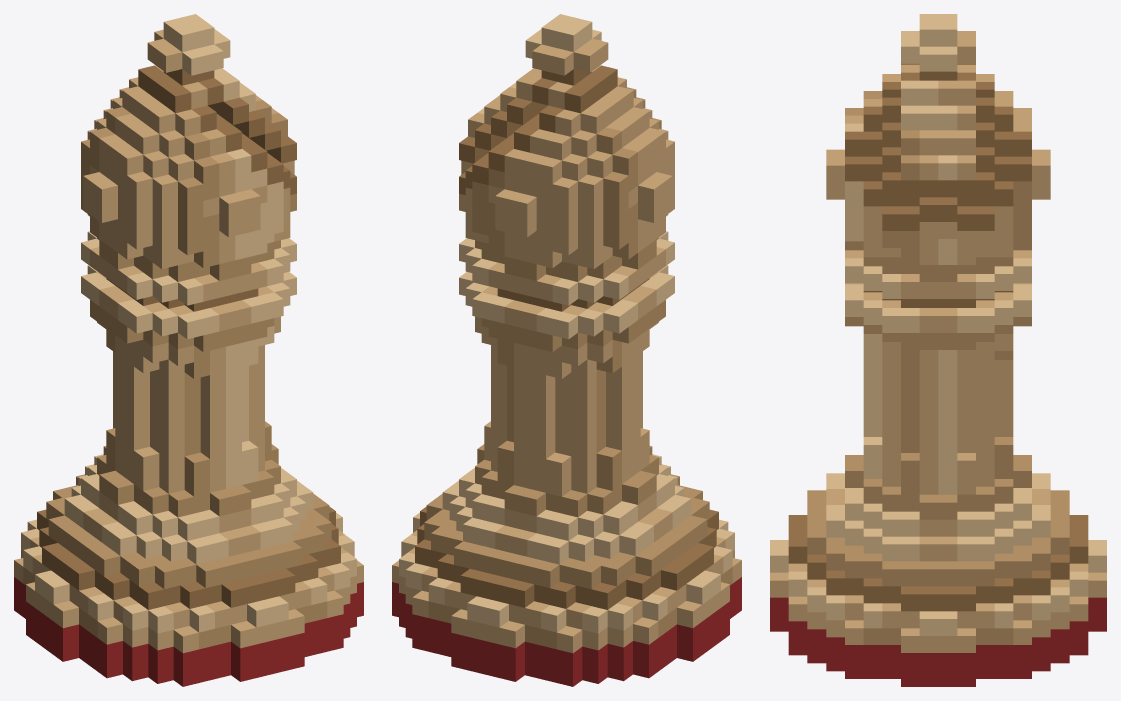
Rendered from bishop.obj.
The picture shows the model from 3 angles, left to right: view 1: azimuth 30°, elevation 25°; view 2: azimuth 150°, elevation 25°; view 3: azimuth 270°, elevation 25°; orthographic projection.
Parts seen in each view (by area): view 1: bishop; view 2: bishop; view 3: bishop.
Part boxes in pixels (x1,y1,x2,y2): bishop: (14, 14, 363, 686); bishop: (392, 14, 741, 686); bishop: (770, 14, 1106, 686).
Bounding box in the file's own units: 0.378 × 0.735 × 0.378.
Materials: 1 (1 with a texture image).
